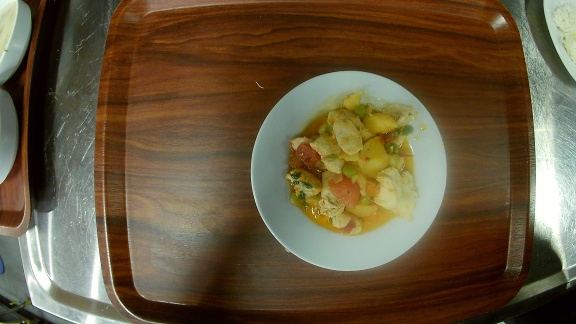bezelyelitavuk: (247, 69, 450, 273)
